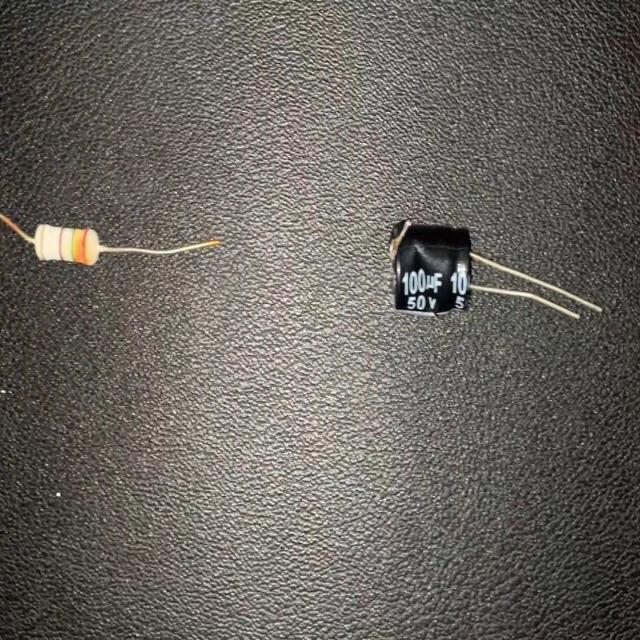burnt: (71, 226, 89, 258)
capacitor: (387, 214, 604, 321)
cracked: (405, 240, 448, 314), (391, 221, 410, 264)
resistor: (0, 206, 222, 270)
rust: (3, 215, 21, 240), (210, 231, 220, 253)
